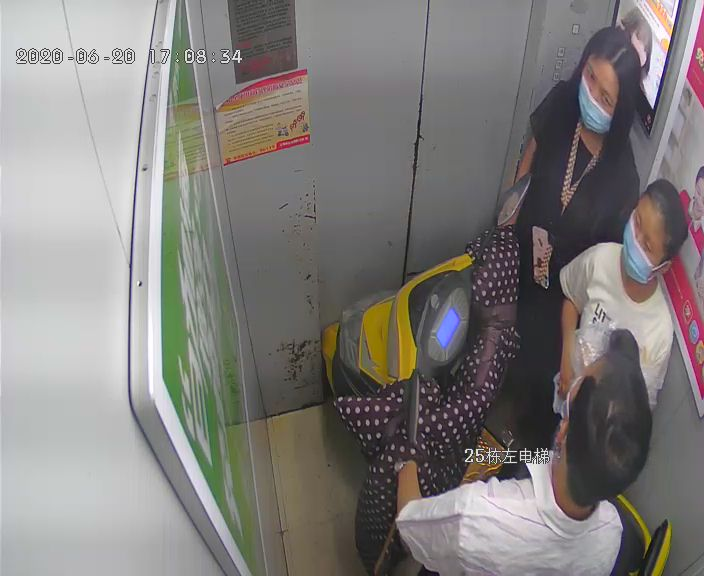Electric-bicycle: (325, 176, 674, 567)
